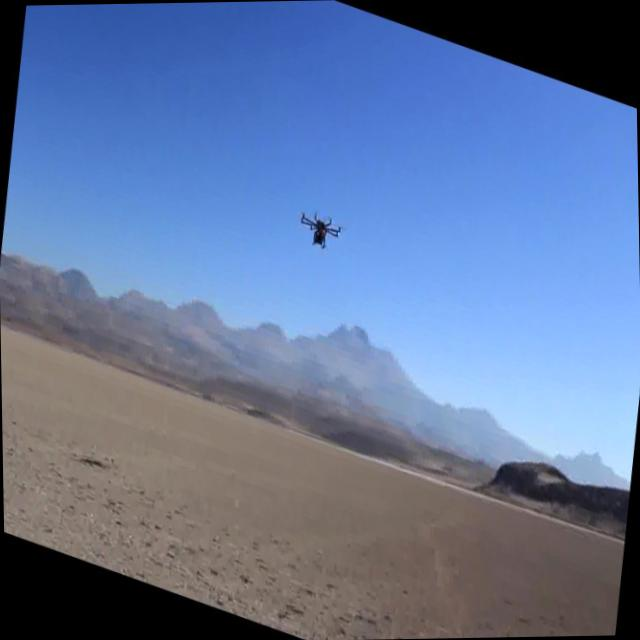drone: (294, 195, 347, 262)
